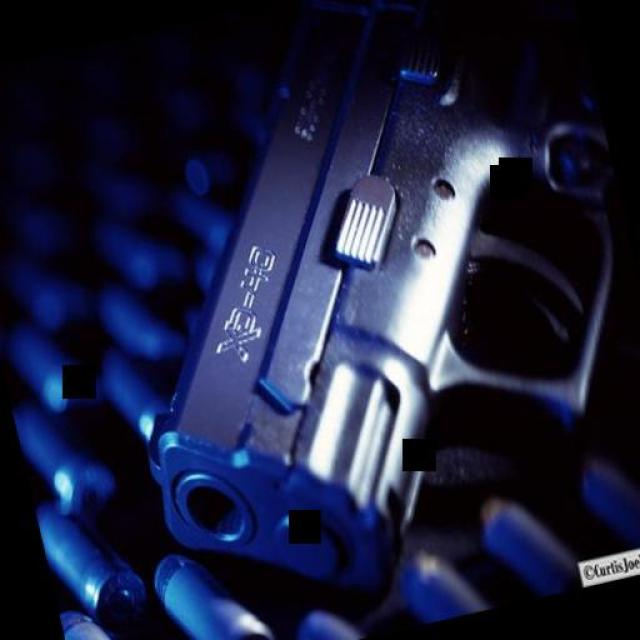gun: (51, 0, 640, 609)
